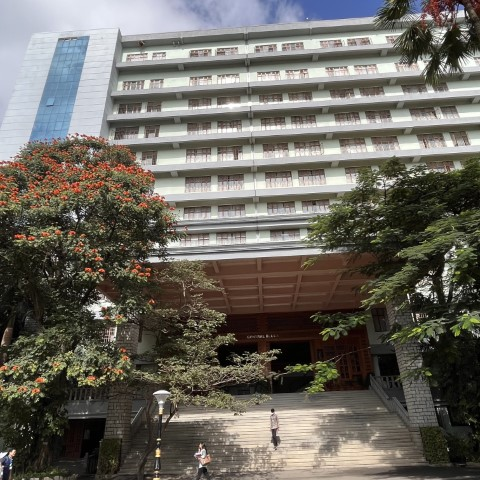Central Block: (28, 20, 480, 480)
